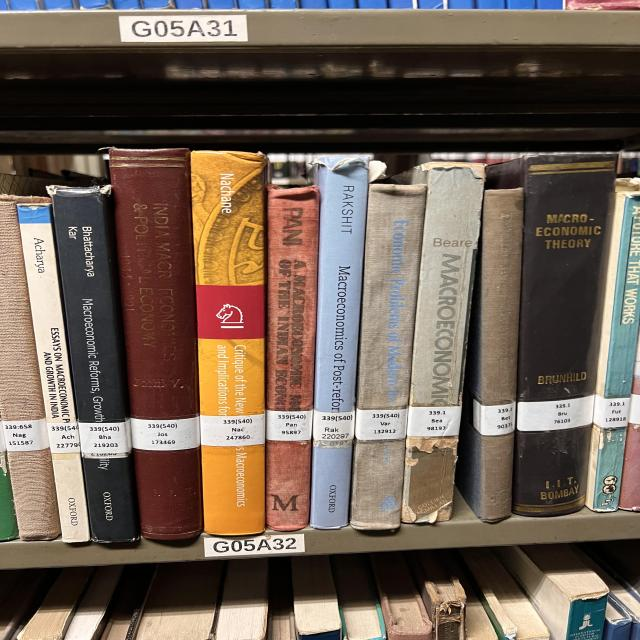Book: (487, 152, 617, 516), (108, 149, 202, 540), (392, 162, 485, 524), (50, 186, 140, 542), (190, 151, 267, 535), (350, 184, 427, 530), (17, 204, 90, 542), (457, 189, 523, 521), (310, 156, 368, 529), (0, 195, 60, 540), (585, 179, 640, 512), (265, 186, 318, 531)
Label: (517, 395, 595, 431), (130, 416, 200, 451), (78, 420, 132, 459), (200, 414, 265, 446), (407, 406, 462, 436), (355, 409, 407, 440), (473, 400, 517, 435), (2, 419, 50, 451), (267, 410, 313, 441), (313, 410, 355, 441), (47, 422, 80, 454), (610, 406, 612, 410)
